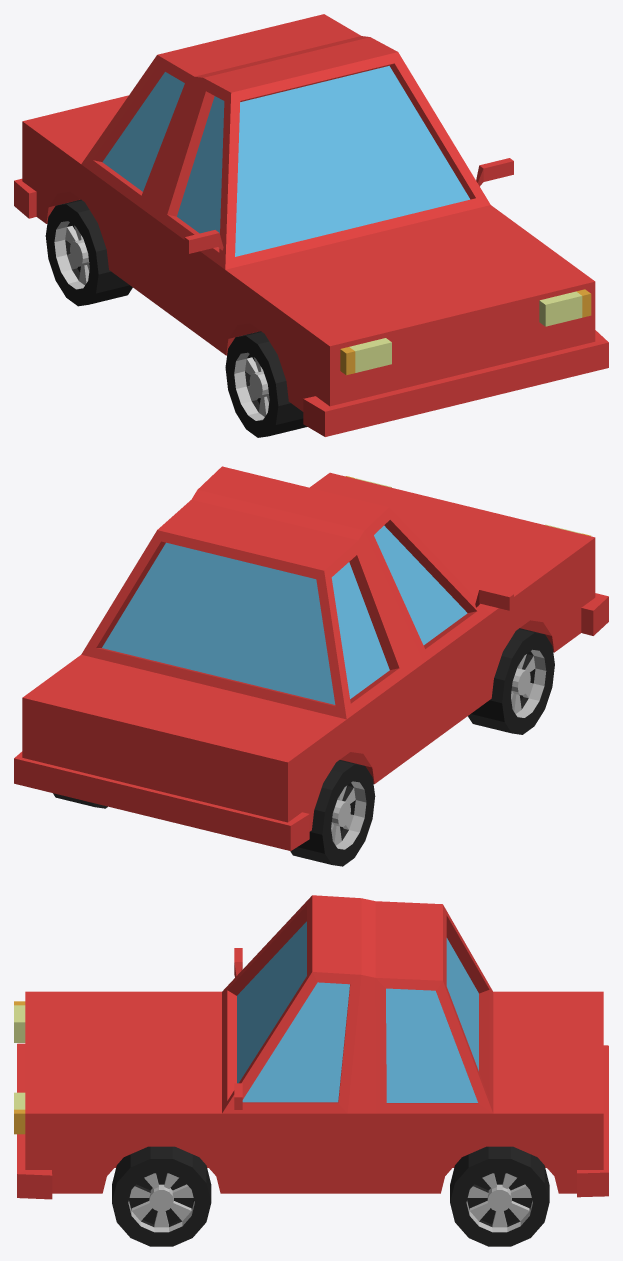
The model's file is car.glb.
3 views of the same model, one above another, from view 1: azimuth 30°, elevation 25°; view 2: azimuth 150°, elevation 25°; view 3: azimuth 270°, elevation 25° (orthographic). The views are drawn at different scales.
Visible parts, largest first — view 1: Cube, Cylinder.003, Cylinder.001, Cube.001, Cube.002; view 2: Cube, Cylinder.003, Cylinder.001, Cube.002; view 3: Cube, Cylinder.001, Cylinder.003, Cube.001, Cube.002.
Part boxes in pixels (x1,y1,x2,y2): Cube: [14, 14, 608, 436]; Cylinder.003: [45, 199, 132, 306]; Cylinder.001: [225, 331, 307, 437]; Cube.001: [340, 289, 591, 375]; Cube.002: [184, 158, 513, 253]; Cube: [14, 466, 608, 850]; Cylinder.003: [53, 760, 375, 866]; Cylinder.001: [468, 628, 554, 734]; Cube.002: [475, 586, 513, 610]; Cube: [17, 895, 608, 1199]; Cylinder.001: [112, 1146, 211, 1246]; Cylinder.003: [450, 1146, 549, 1246]; Cube.001: [14, 1001, 25, 1134]; Cube.002: [234, 948, 242, 1109].
Size of the model in its own units: 2.45 by 1.93 by 4.13.
